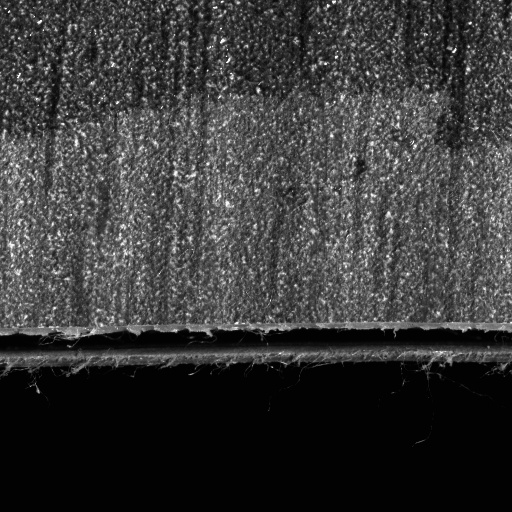kaijiao: (0, 322, 511, 372)
